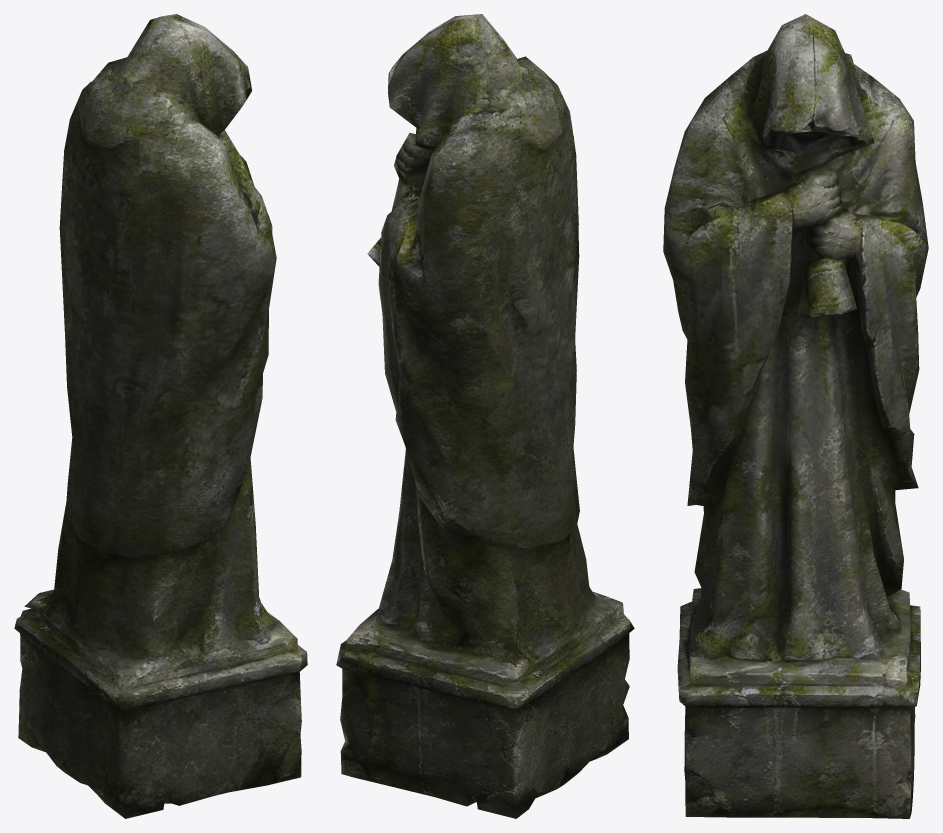
The model's file is mourner.glb.
The picture shows the model from 3 angles, left to right: view 1: azimuth 30°, elevation 25°; view 2: azimuth 150°, elevation 25°; view 3: azimuth 270°, elevation 25°; orthographic projection. The views are drawn at different scales.
Parts seen in each view (by area): view 1: tripo_node_ea62b33a-2600-4b86-a09a-db68ab3b8e0b; view 2: tripo_node_ea62b33a-2600-4b86-a09a-db68ab3b8e0b; view 3: tripo_node_ea62b33a-2600-4b86-a09a-db68ab3b8e0b.
Part boxes in pixels (<box>): tripo_node_ea62b33a-2600-4b86-a09a-db68ab3b8e0b: <box>14,14,307,818</box>; tripo_node_ea62b33a-2600-4b86-a09a-db68ab3b8e0b: <box>336,14,634,818</box>; tripo_node_ea62b33a-2600-4b86-a09a-db68ab3b8e0b: <box>663,14,928,818</box>.
Bounding box in the file's own units: 0.2757 × 1 × 0.3157.
1 material, 1 textured.
